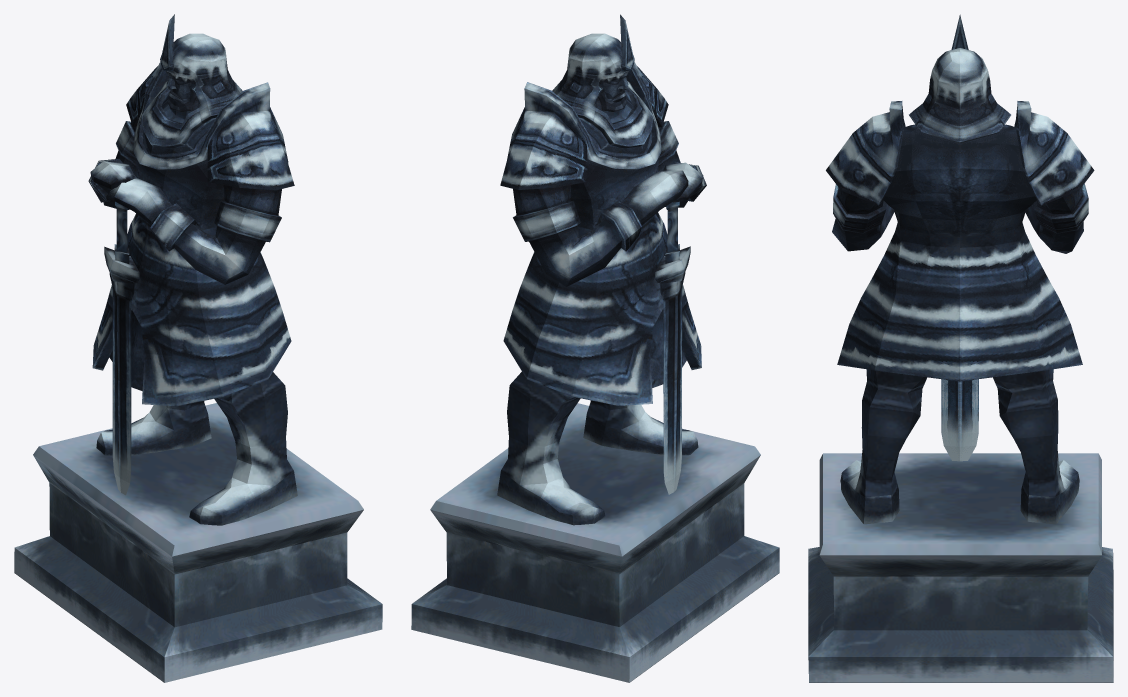
File: Ice_stone_statue03.FBX
The picture shows the model from 3 angles, left to right: view 1: azimuth 30°, elevation 25°; view 2: azimuth 150°, elevation 25°; view 3: azimuth 270°, elevation 25°; orthographic projection.
Parts seen in each view (by area): view 1: polySurface7; view 2: polySurface7; view 3: polySurface7.
Boxes of the visible parts, box(x1,y1,x2,y2) form: polySurface7: box(14, 14, 382, 682); polySurface7: box(411, 14, 779, 682); polySurface7: box(808, 14, 1113, 682).
Bounding box in the file's own units: 135 × 351 × 161.
